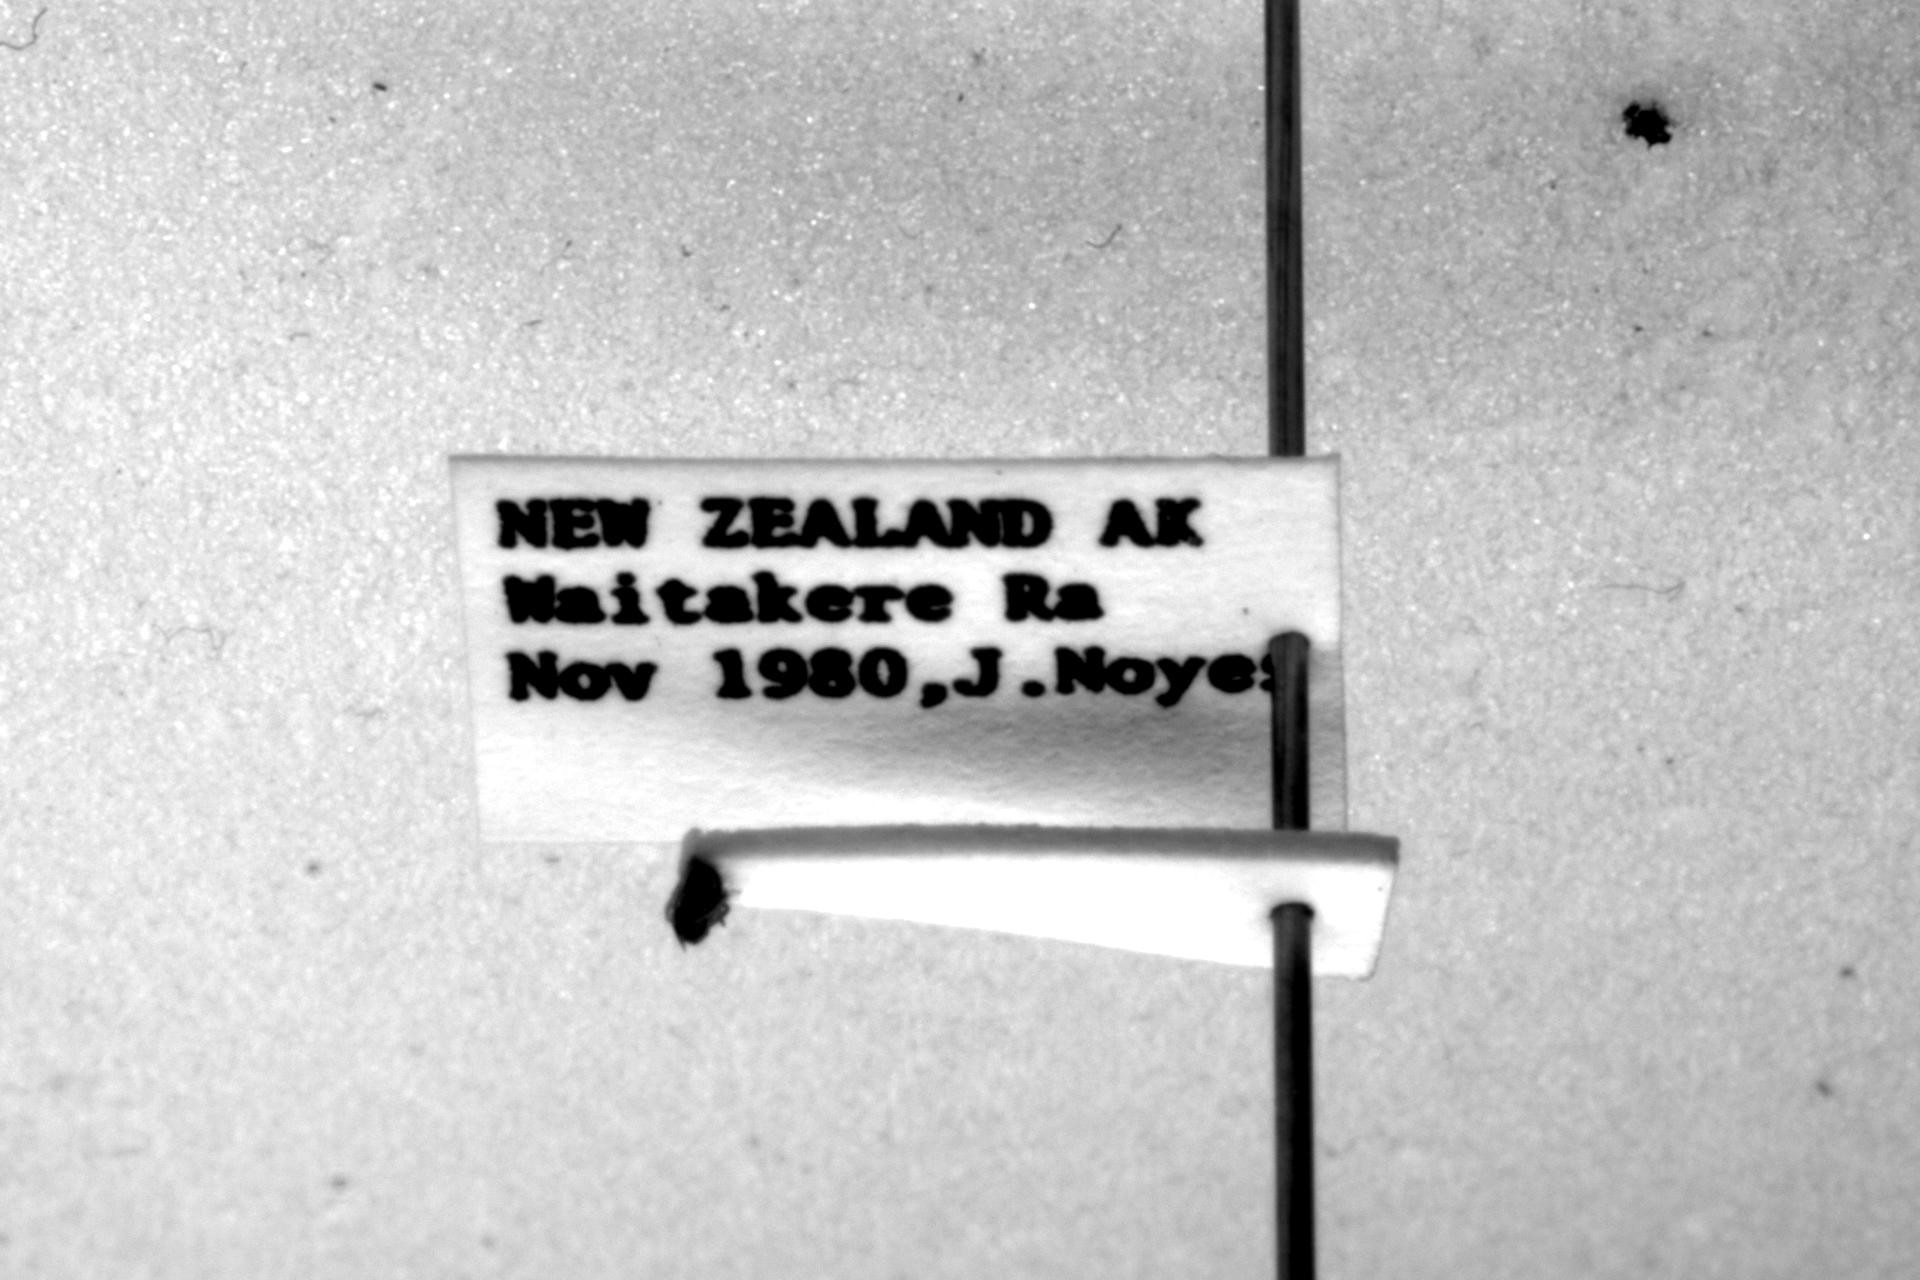typed_label: (450, 457, 1346, 844)
